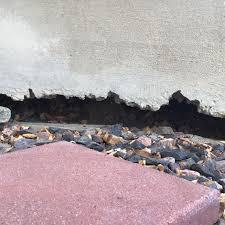Spalling: (1, 87, 225, 119)
